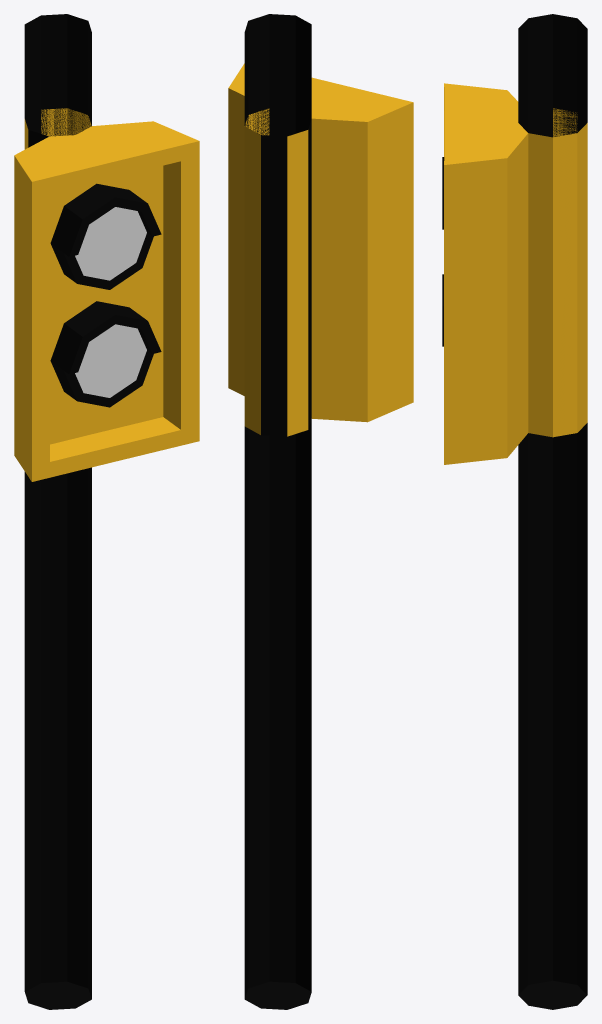
Rendered from semaforo.fbx.
3 views of the same model, side by side, from view 1: azimuth 30°, elevation 25°; view 2: azimuth 150°, elevation 25°; view 3: azimuth 270°, elevation 25° (orthographic).
Visible parts, largest first — view 1: semaforo; view 2: semaforo; view 3: semaforo.
Part boxes in pixels (<box>): semaforo: <box>14,14,199,1009</box>; semaforo: <box>228,14,413,1009</box>; semaforo: <box>442,14,587,1009</box>.
Bounding box in the file's own units: 72.57 × 400 × 54.41.
